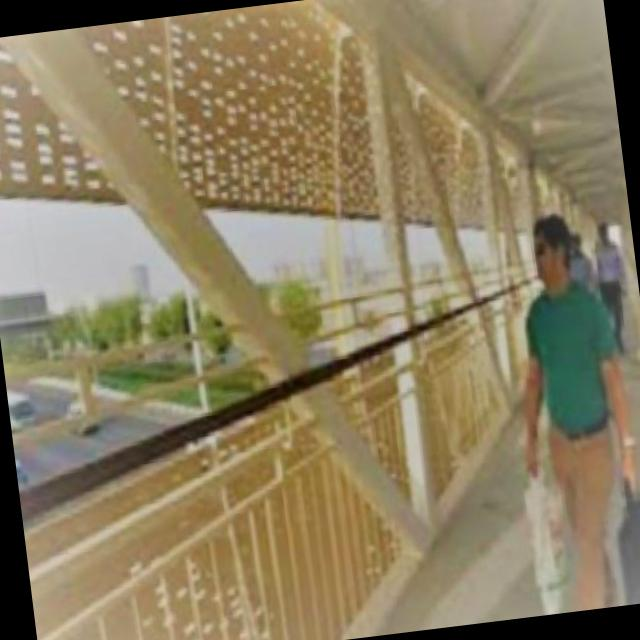Person: (484, 201, 640, 614), (582, 212, 640, 356)
